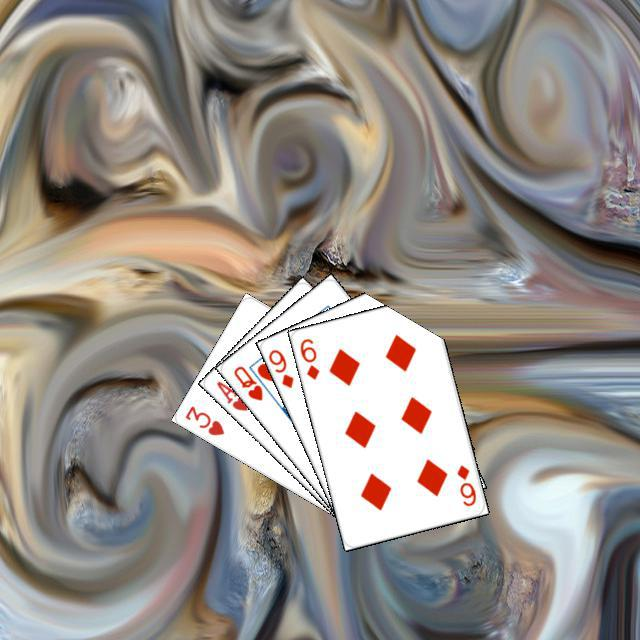3h: (180, 401, 226, 437)
6d: (295, 334, 321, 382), (452, 460, 478, 508)
9d: (263, 344, 295, 390)
Ah: (211, 376, 250, 413)
Qh: (228, 361, 265, 402)
